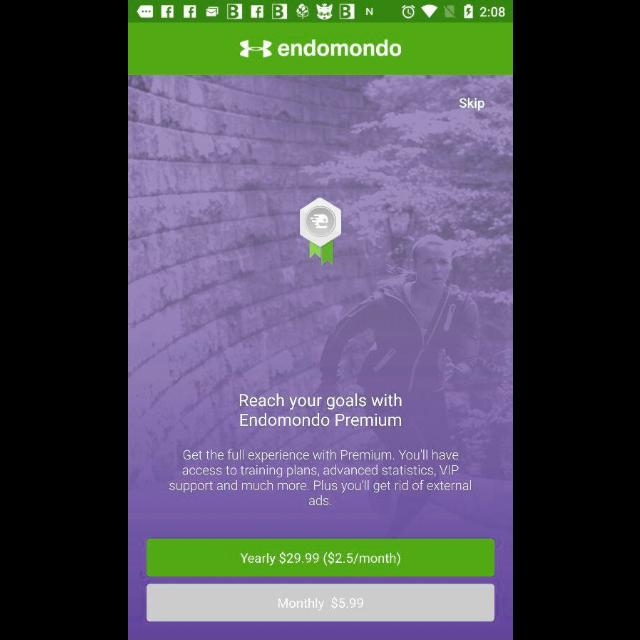backgroundimage: (128, 76, 512, 640)
image: (240, 40, 400, 60), (299, 198, 341, 266)
text: (168, 449, 470, 506), (239, 393, 401, 427), (458, 98, 484, 112)
textbutton: (146, 584, 494, 622), (146, 539, 494, 577)
toolbar: (128, 23, 512, 76)
uppertaskbar: (128, 1, 512, 23)
